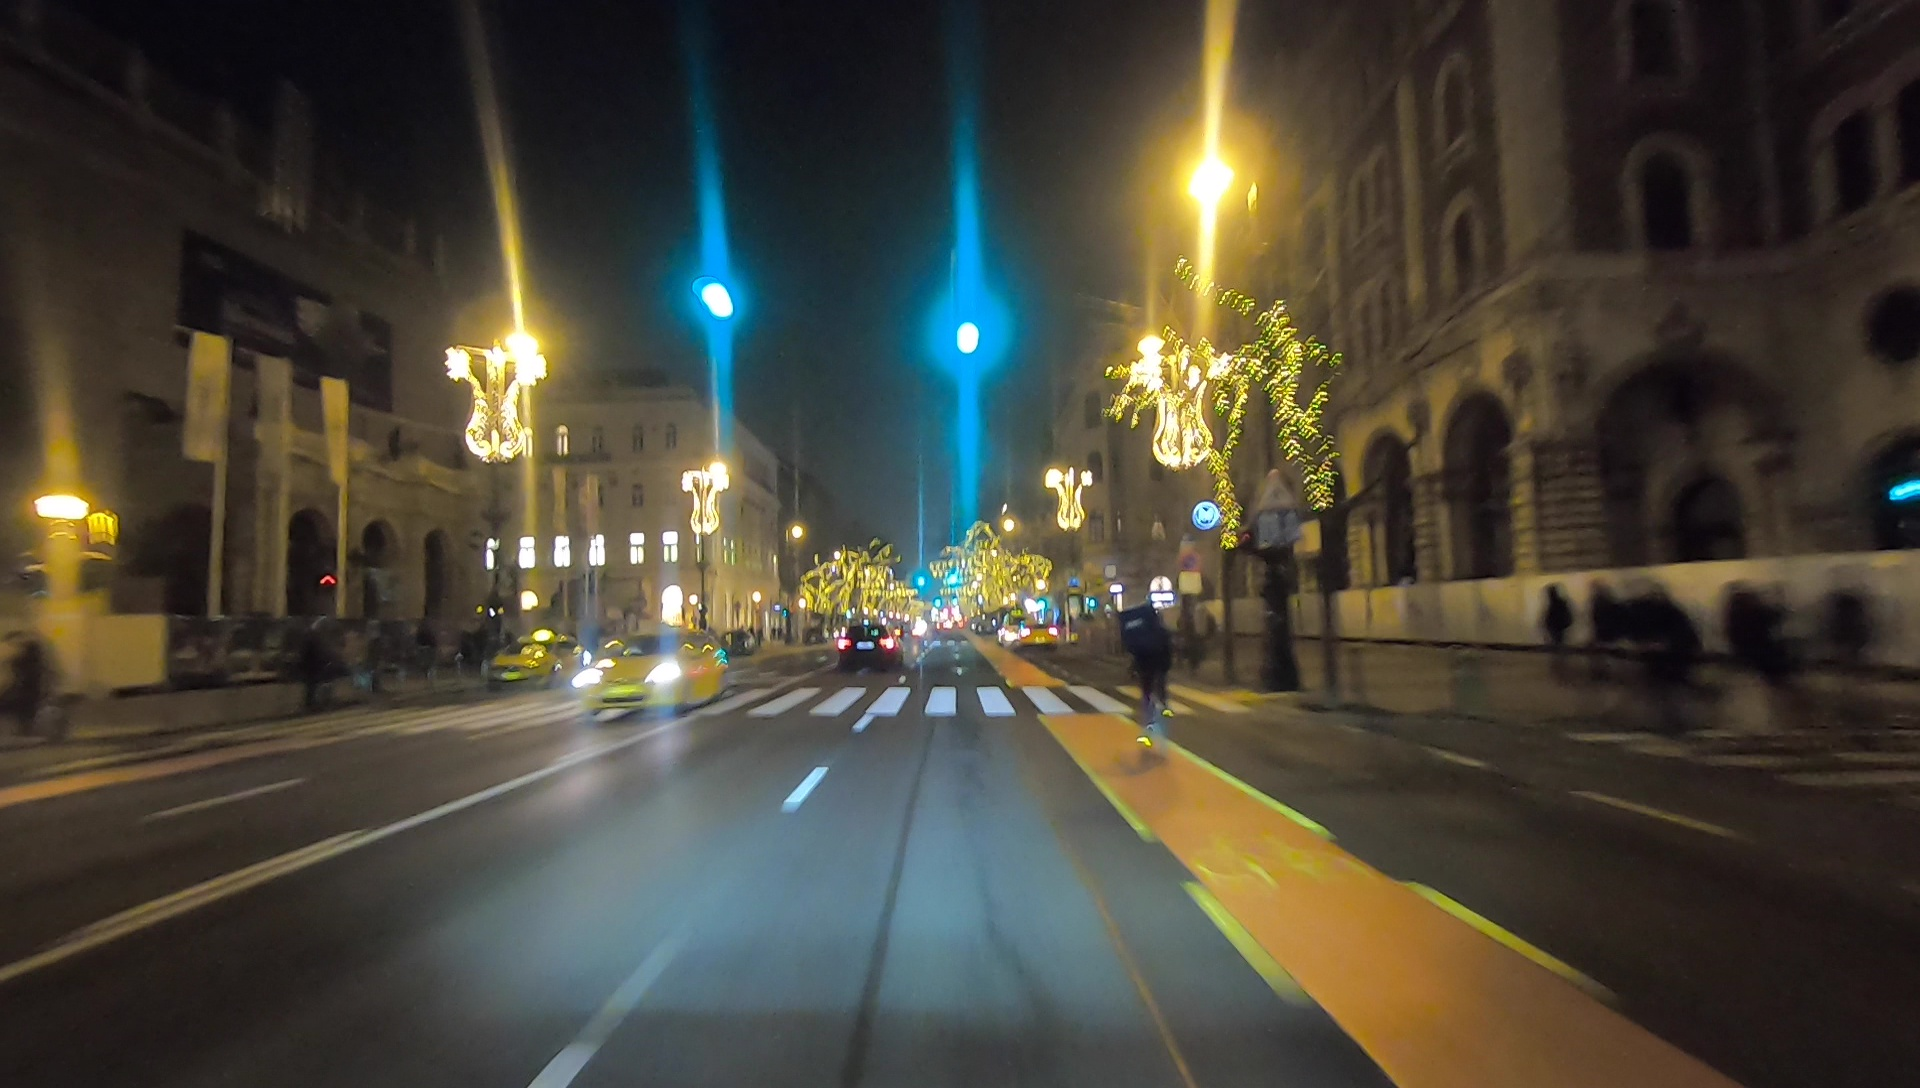person: (1715, 574, 1795, 745), (1626, 582, 1689, 732), (1586, 580, 1621, 711), (1538, 580, 1575, 691)
